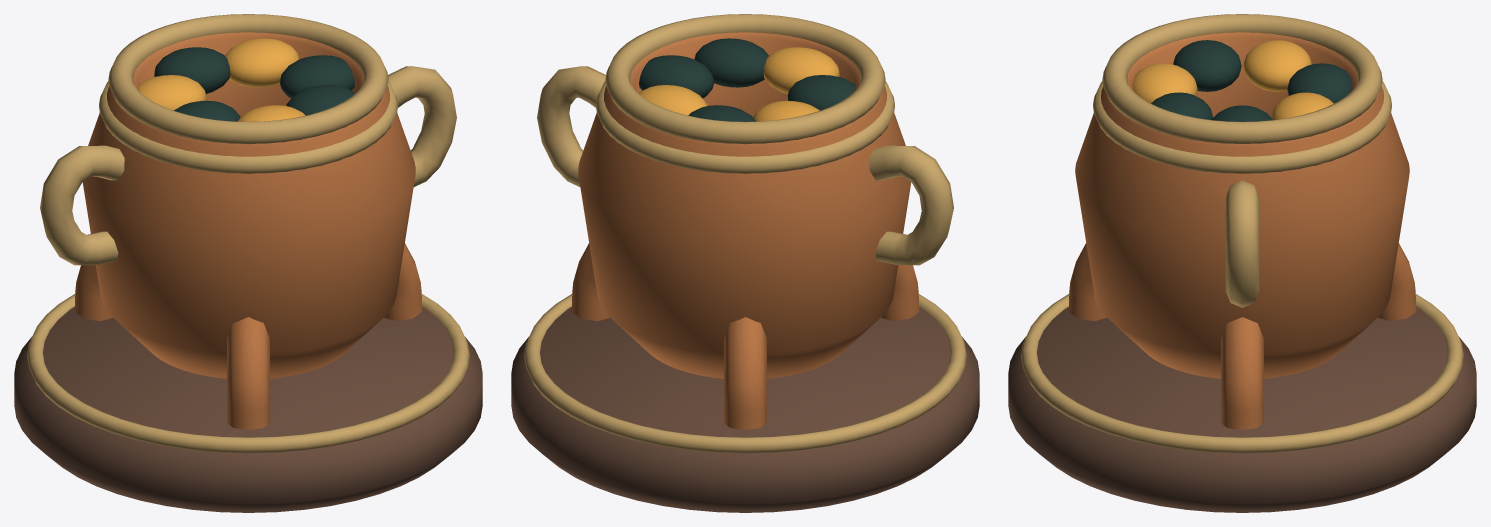
The model's file is coal.glb.
3 views of the same model, side by side, from view 1: azimuth 30°, elevation 25°; view 2: azimuth 150°, elevation 25°; view 3: azimuth 270°, elevation 25° (orthographic).
Parts seen in each view (by area): view 1: coal_Warm satin copper, coal_Walnut carved edge, coal_Brushed champagne brass, coal_Deep pot interior, coal_Warm ember enamel; view 2: coal_Warm satin copper, coal_Walnut carved edge, coal_Brushed champagne brass, coal_Deep pot interior, coal_Warm ember enamel; view 3: coal_Warm satin copper, coal_Walnut carved edge, coal_Brushed champagne brass, coal_Deep pot interior, coal_Warm ember enamel.
Boxes of the visible parts, x1,y1,x2,y2 form: coal_Warm satin copper: [74, 32, 422, 429]; coal_Walnut carved edge: [14, 306, 482, 512]; coal_Brushed champagne brass: [27, 14, 469, 453]; coal_Deep pot interior: [154, 47, 355, 121]; coal_Warm ember enamel: [138, 38, 305, 121]; coal_Warm satin copper: [571, 32, 919, 429]; coal_Walnut carved edge: [511, 306, 979, 512]; coal_Brushed champagne brass: [524, 14, 966, 453]; coal_Deep pot interior: [639, 38, 855, 121]; coal_Warm ember enamel: [638, 47, 839, 121]; coal_Warm satin copper: [1068, 32, 1416, 429]; coal_Walnut carved edge: [1008, 306, 1476, 512]; coal_Brushed champagne brass: [1021, 14, 1463, 453]; coal_Deep pot interior: [1151, 40, 1352, 121]; coal_Warm ember enamel: [1132, 40, 1333, 119].
Bounding box in the file's own units: 0.9989 × 0.816 × 0.98.
